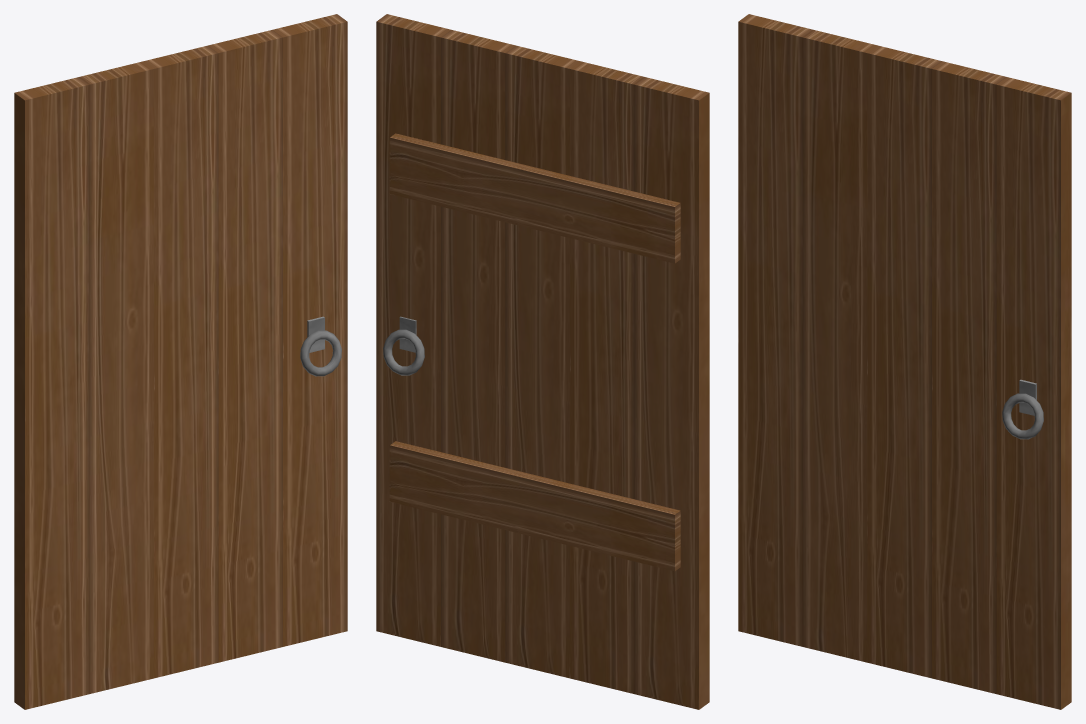
File: SM_Door_01.glb
3 renders of one model, left to right at view 1: azimuth 30°, elevation 25°; view 2: azimuth 150°, elevation 25°; view 3: azimuth 330°, elevation 25°, orthographic.
Parts seen in each view (by area): view 1: SM_Door_01; view 2: SM_Door_01; view 3: SM_Door_01.
Boxes of the visible parts, x1,y1,x2,y2 form: SM_Door_01: (14, 14, 347, 709); SM_Door_01: (376, 14, 709, 709); SM_Door_01: (738, 14, 1071, 709).
Bounding box in the file's own units: 1.12 × 2.02 × 0.1793.
Materials: 1 (1 with a texture image).
